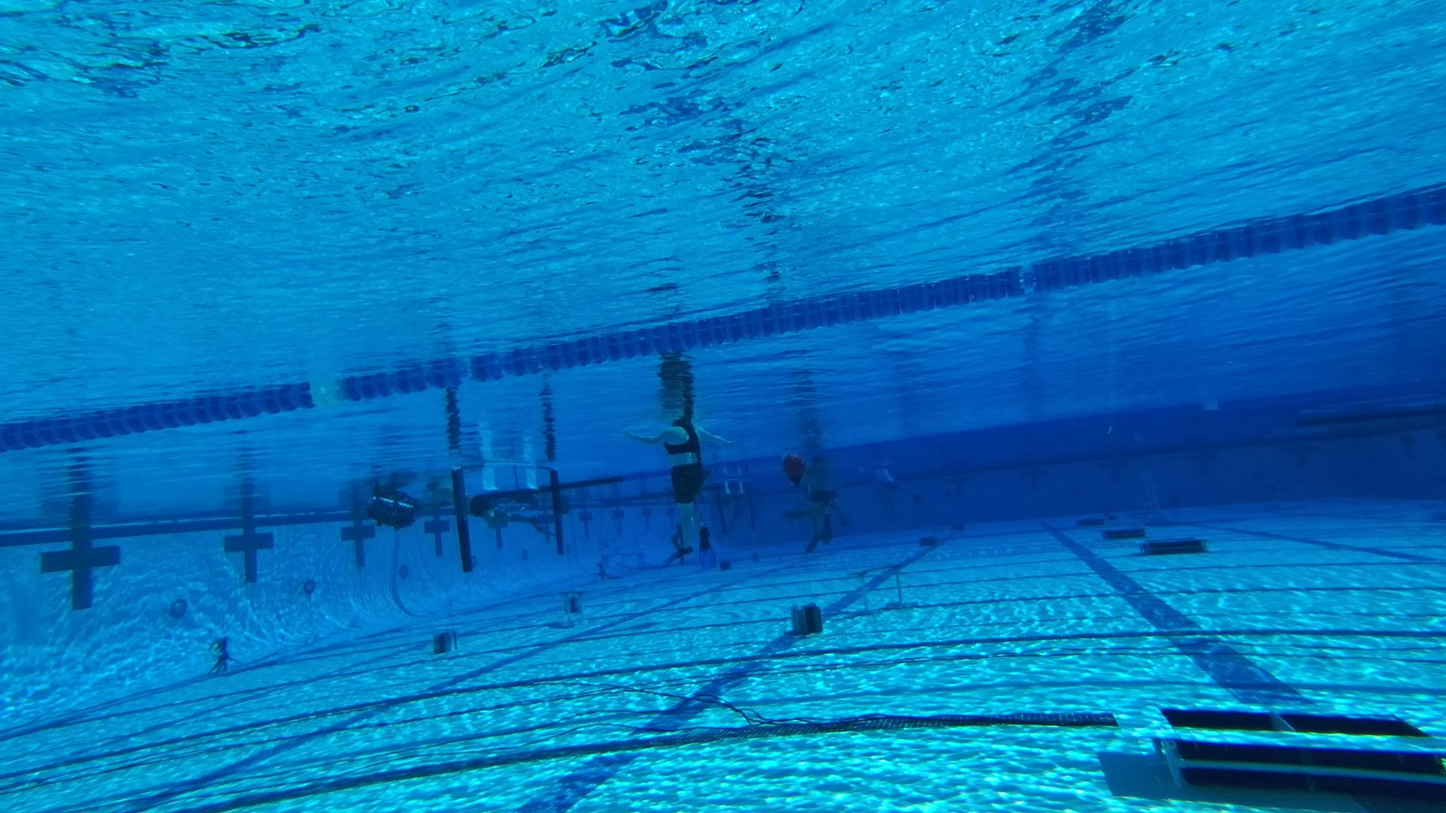buoy: (781, 451, 805, 486), (936, 488, 954, 511), (910, 493, 924, 512)
dropper-box-side: (1094, 699, 1443, 807), (1135, 539, 1215, 557), (1105, 529, 1155, 538), (1080, 515, 1122, 523)
